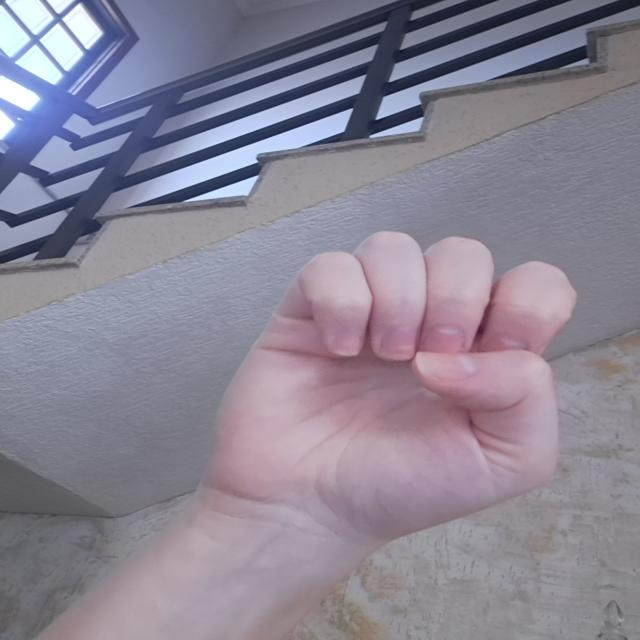E: (193, 226, 614, 545)
